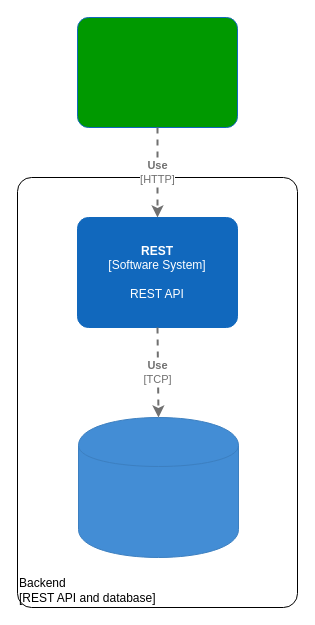
This 315x625 diagram has some shape labels left out. The box of each missing label's shape, as (x1, y1, x2, y2) in pixels:
Database [Container: PostgresQL] Main database: (78, 416, 238, 558)
Web app [Software System] Single page web application: (76, 16, 238, 128)
